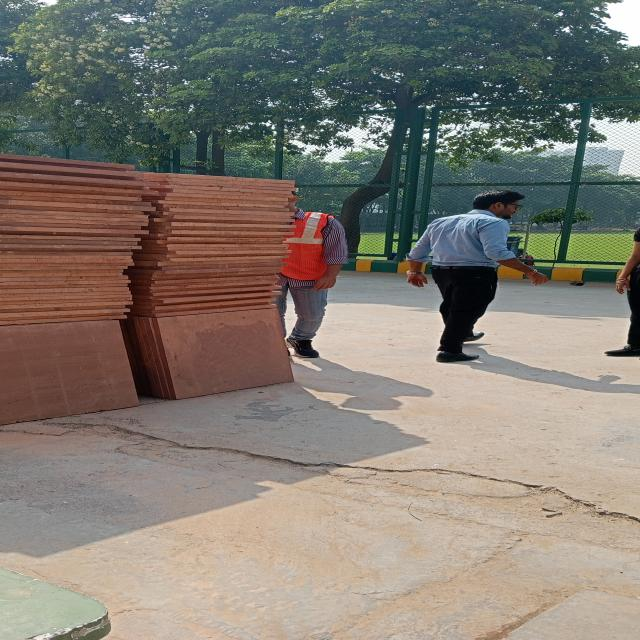unsafe: (410, 185, 538, 362)
